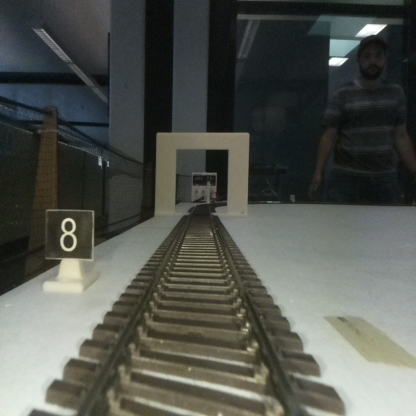black-stop-8: (45, 210, 93, 291)
